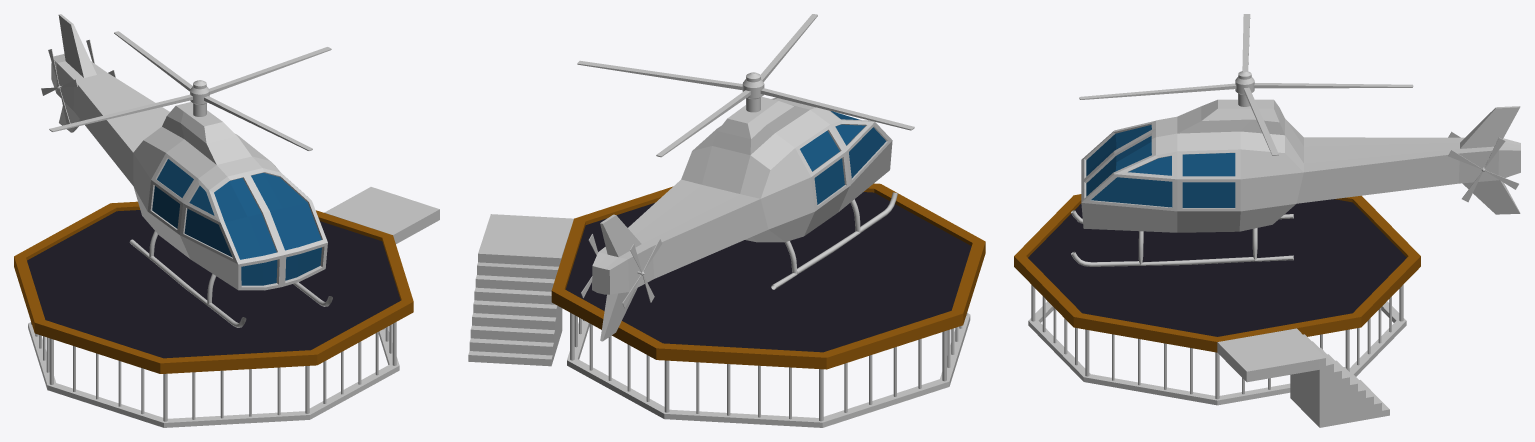
File: copter_000007.obj
3 views of the same model, side by side, from view 1: azimuth 30°, elevation 25°; view 2: azimuth 150°, elevation 25°; view 3: azimuth 270°, elevation 25° (orthographic). The views are drawn at different scales.
Parts seen in each view (by area): view 1: Cylinder.001_Cylinder.012, Helicopter.007_Cylinder.008, Helicopter.001_Cylinder.001, Cylinder.004, Cylinder.003_Cylinder.005, Cylinder.002, Helicopter.004_Cylinder.005; view 2: Cylinder.001_Cylinder.012, Helicopter.007_Cylinder.008, Helicopter.001_Cylinder.001, Cylinder.004, Cylinder.003_Cylinder.005, Cylinder.002, Helicopter.004_Cylinder.005; view 3: Cylinder.001_Cylinder.012, Helicopter.007_Cylinder.008, Helicopter.001_Cylinder.001, Cylinder.004, Cylinder.002, Helicopter.003_Cylinder.004, Cylinder.003_Cylinder.005.
Part boxes in pixels (x1,y1,x2,y2): Cylinder.001_Cylinder.012: (14, 187, 439, 427); Helicopter.007_Cylinder.008: (51, 14, 332, 327); Helicopter.001_Cylinder.001: (49, 31, 331, 150); Cylinder.004: (192, 332, 378, 419); Cylinder.003_Cylinder.005: (35, 324, 392, 414); Cylinder.002: (31, 322, 396, 421); Helicopter.004_Cylinder.005: (41, 49, 77, 124); Cylinder.001_Cylinder.012: (468, 183, 985, 427); Helicopter.007_Cylinder.008: (592, 97, 897, 341); Helicopter.001_Cylinder.001: (577, 14, 914, 157); Cylinder.004: (589, 323, 791, 419); Cylinder.003_Cylinder.005: (574, 315, 962, 412); Cylinder.002: (570, 312, 967, 421); Helicopter.004_Cylinder.005: (622, 238, 662, 308); Cylinder.001_Cylinder.012: (1014, 194, 1420, 427); Helicopter.007_Cylinder.008: (1071, 99, 1520, 266); Helicopter.001_Cylinder.001: (1079, 14, 1413, 155); Cylinder.004: (1042, 296, 1391, 365); Cylinder.002: (1031, 284, 1403, 399); Helicopter.003_Cylinder.004: (1448, 137, 1518, 202); Cylinder.003_Cylinder.005: (1112, 334, 1322, 394).
Size of the model in its own units: 7.94 by 4.67 by 8.44.
